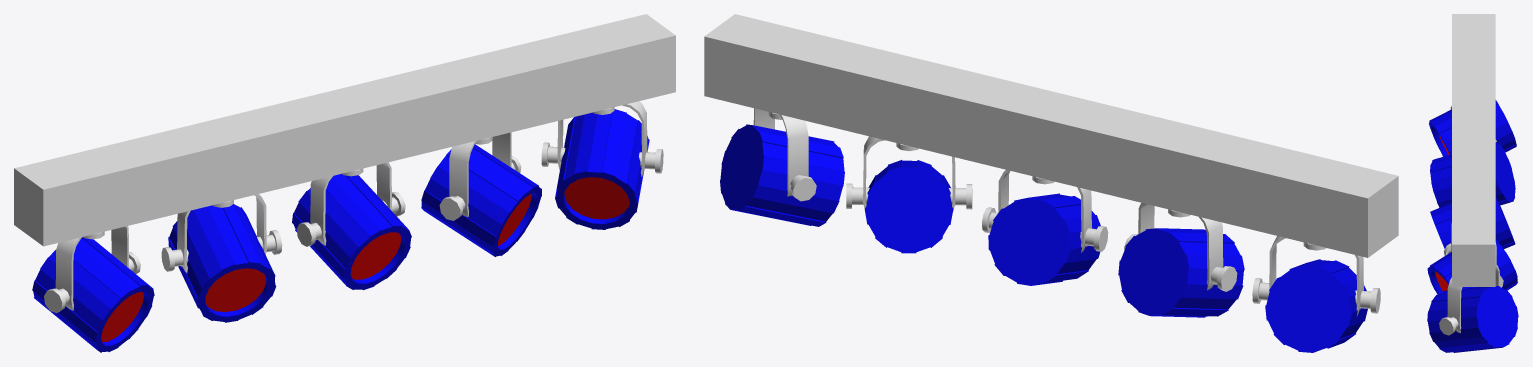
File: Dio_clublights_ZW.fbx
3 views of the same model, side by side, from view 1: azimuth 30°, elevation 25°; view 2: azimuth 150°, elevation 25°; view 3: azimuth 270°, elevation 25° (orthographic). The views are drawn at different scales.
Visible parts, largest first — view 1: Box001, Cylinder036, Cylinder022, Cylinder015, Cylinder029, Cylinder008, Rectangle002, Rectangle005, Rectangle003, Rectangle004, Rectangle006; view 2: Box001, Cylinder036, Cylinder022, Cylinder015, Cylinder029, Cylinder008, Rectangle006, Rectangle004, Rectangle003, Rectangle005, Rectangle002; view 3: Box001, Cylinder036, Cylinder022, Cylinder029, Cylinder008, Cylinder015, Rectangle006, Cylinder040.
Boxes of the visible parts, x1,y1,x2,y2 form: Box001: [14, 14, 675, 246]; Cylinder036: [555, 109, 649, 229]; Cylinder022: [168, 204, 276, 322]; Cylinder015: [292, 174, 411, 290]; Cylinder029: [32, 237, 154, 352]; Cylinder008: [421, 144, 541, 256]; Rectangle002: [449, 132, 511, 217]; Rectangle005: [55, 226, 128, 310]; Rectangle003: [310, 162, 391, 245]; Rectangle004: [177, 194, 266, 273]; Rectangle006: [557, 101, 647, 176]; Box001: [704, 14, 1398, 257]; Cylinder036: [720, 124, 844, 226]; Cylinder022: [1118, 228, 1244, 317]; Cylinder015: [988, 193, 1100, 285]; Cylinder029: [1265, 259, 1367, 352]; Cylinder008: [864, 160, 953, 253]; Rectangle006: [753, 108, 808, 196]; Rectangle004: [1138, 203, 1223, 290]; Rectangle003: [998, 170, 1091, 252]; Rectangle005: [1269, 236, 1363, 315]; Rectangle002: [863, 136, 955, 212]; Box001: [1452, 14, 1495, 286]; Cylinder036: [1427, 286, 1518, 352]; Cylinder022: [1430, 142, 1515, 207]; Cylinder029: [1429, 100, 1516, 156]; Cylinder008: [1427, 239, 1517, 294]; Cylinder015: [1430, 195, 1515, 248]; Rectangle006: [1447, 264, 1499, 333]; Cylinder040: [1439, 317, 1455, 335].
Bounding box in the file's own units: 34.99 × 9.45 × 5.86.
